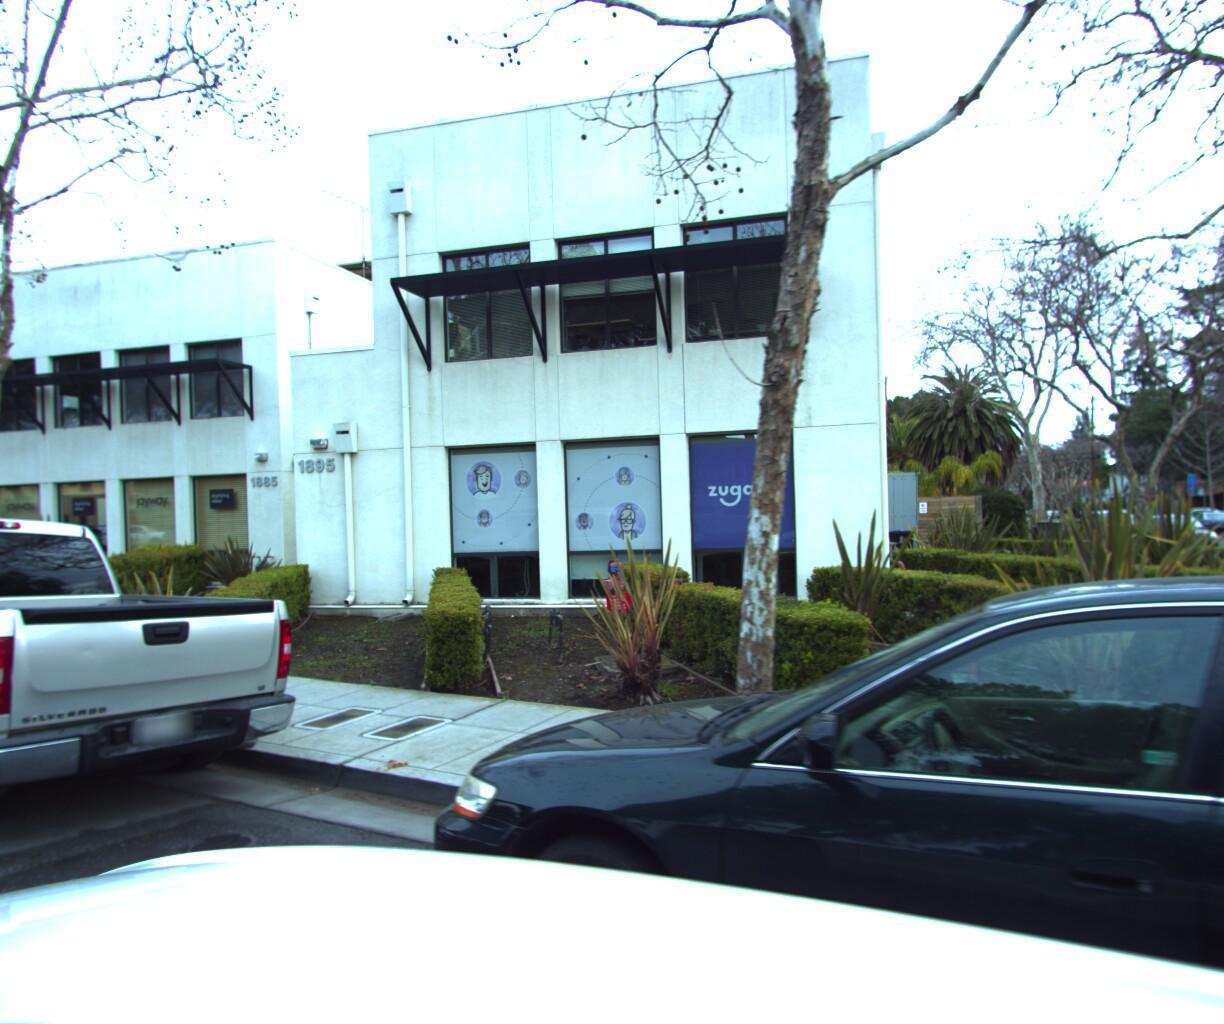car: (301, 523, 1224, 1024), (0, 494, 327, 908), (1178, 501, 1224, 531)
